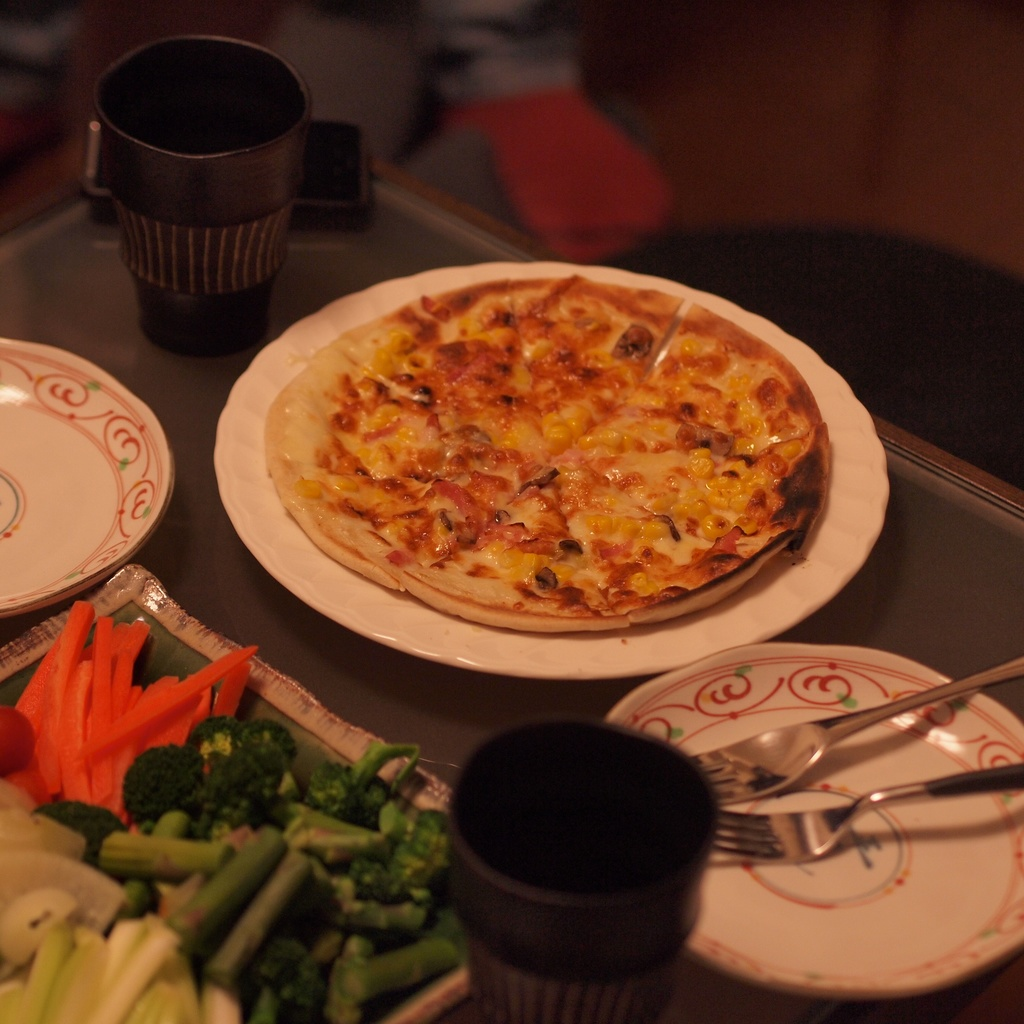Pizza: (337, 261, 544, 461), (621, 289, 819, 480), (421, 462, 612, 629), (593, 440, 768, 611), (275, 396, 511, 519), (519, 277, 680, 454), (306, 471, 476, 588)
